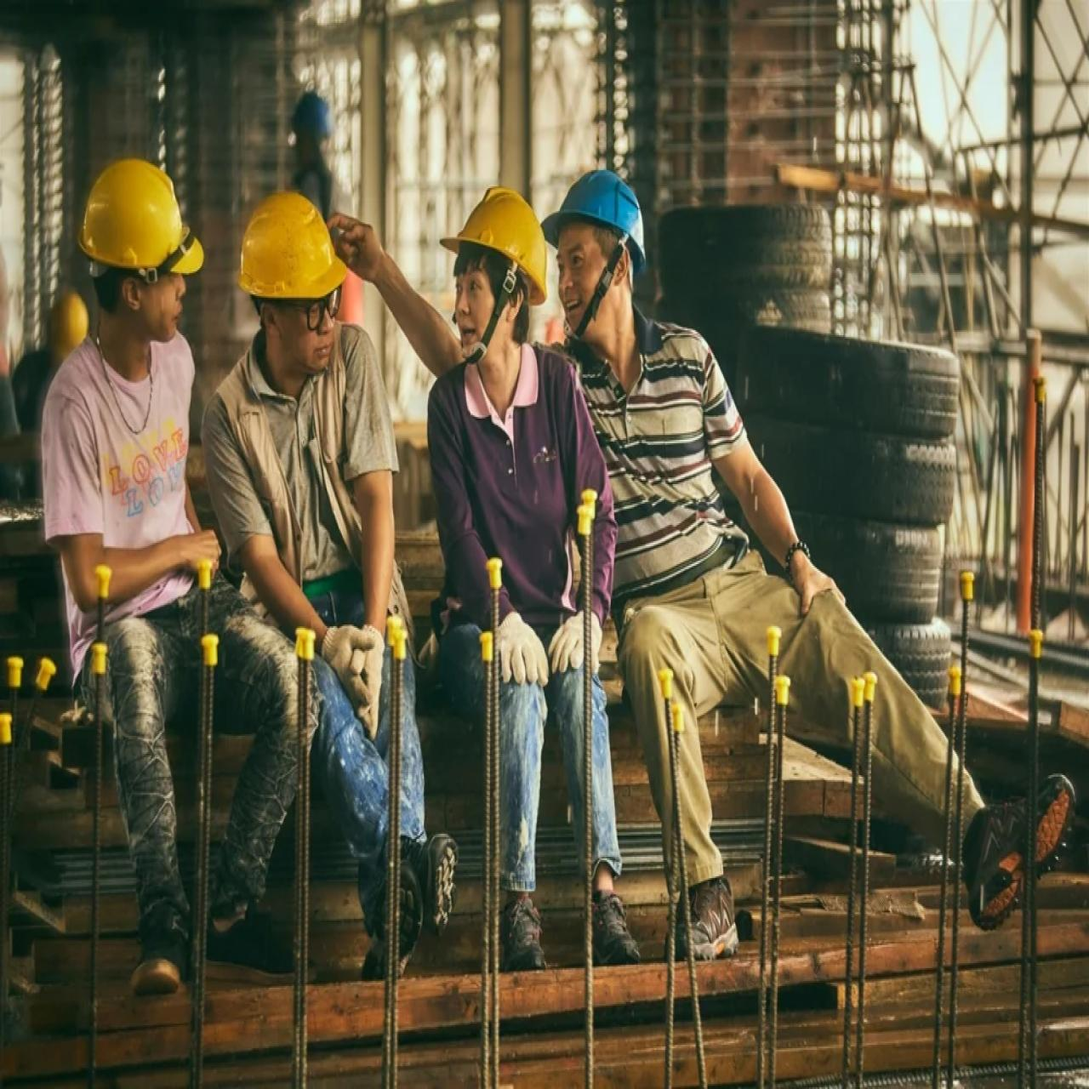NO_Safety_Vest: (570, 338, 730, 592), (228, 335, 368, 589), (446, 361, 570, 635), (65, 350, 192, 616)
Person: (534, 152, 971, 956), (422, 152, 630, 971), (28, 142, 231, 974), (207, 164, 415, 970)
